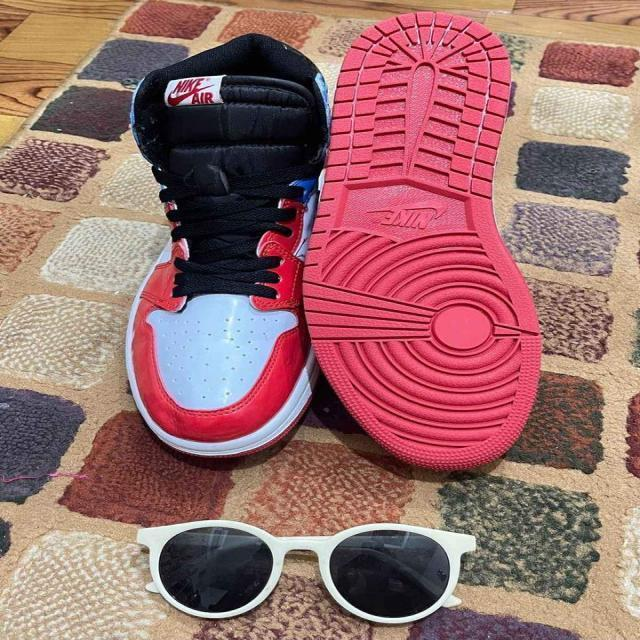nike fake jordan 1: (130, 32, 329, 459)
